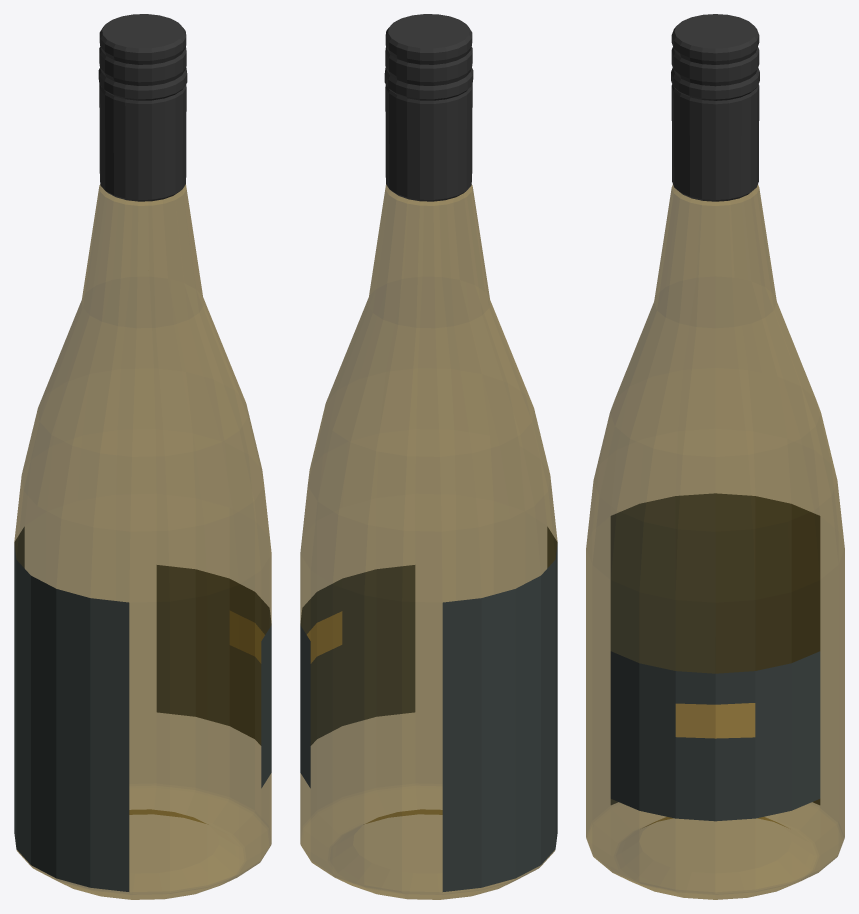
Rendered from BottleWine.fbx.
3 renders of one model, left to right at view 1: azimuth 30°, elevation 25°; view 2: azimuth 150°, elevation 25°; view 3: azimuth 270°, elevation 25°, orthographic.
Visible parts, largest first — view 1: Weinflasche; view 2: Weinflasche; view 3: Weinflasche.
Part boxes in pixels (left/top/right/bottom): Weinflasche: left=14, top=14, right=271, bottom=899; Weinflasche: left=300, top=14, right=557, bottom=899; Weinflasche: left=586, top=14, right=844, bottom=899.
Size of the model in its own units: 177 by 622 by 177.
